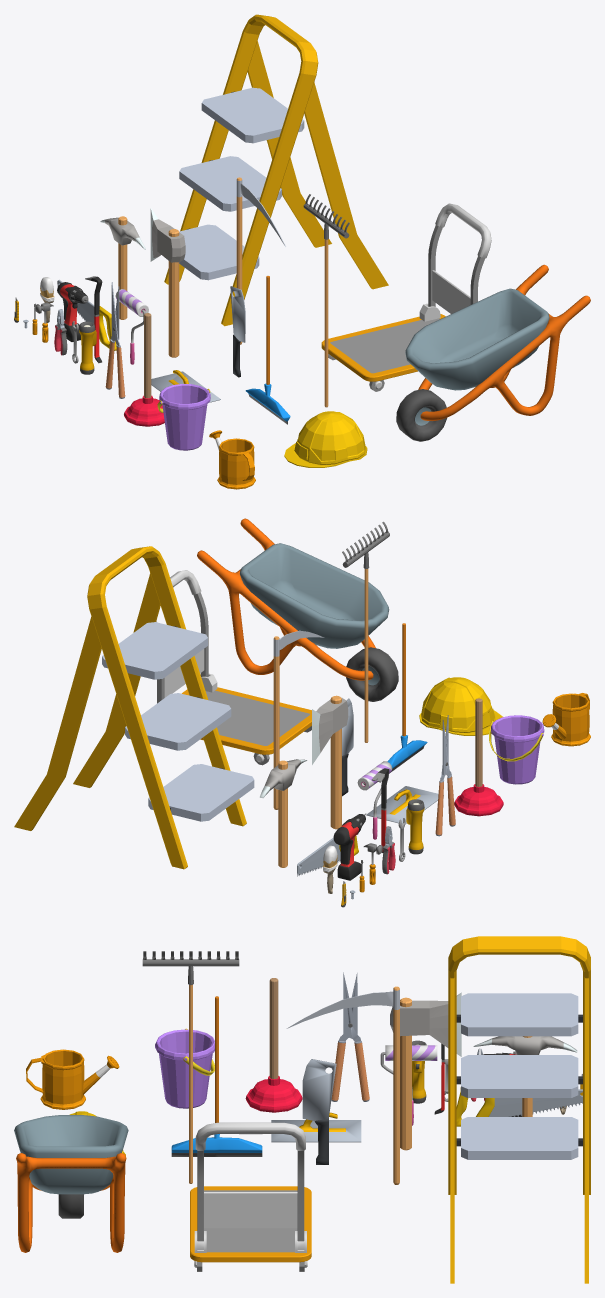
The model's file is Tools.fbx.
The picture shows the model from 3 angles, top to bottom: view 1: azimuth 30°, elevation 25°; view 2: azimuth 150°, elevation 25°; view 3: azimuth 270°, elevation 25°; orthographic projection. The views are drawn at different scales.
Visible parts, largest first — view 1: cart, Body, trolley, Back, Helmet, Cube_1_2, Cube_1_1, Bucket, Cube_1_0, Toilet_Pump, WateringCan, Front (+12 smaller); view 2: cart, Body, Back, trolley, Cube_1_0, Cube_1_1, Cube_1_2, Helmet, Bucket, Toilet_Pump, WateringCan, Front (+14 smaller); view 3: trolley, cart, Cube_1_2, Body, Cube_1_0, Cube_1_1, Bucket, Back, Toilet_Pump, WateringCan, Scyhte, Knife (+13 smaller).
Boxes of the visible parts, bbox=[...] form: cart: bbox=[396, 264, 590, 441]; Body: bbox=[164, 14, 318, 326]; trolley: bbox=[321, 203, 491, 391]; Back: bbox=[247, 40, 388, 289]; Helmet: bbox=[284, 411, 367, 467]; Cube_1_2: bbox=[201, 87, 304, 143]; Cube_1_1: bbox=[179, 156, 281, 211]; Bucket: bbox=[159, 384, 210, 450]; Cube_1_0: bbox=[179, 224, 259, 280]; Toilet_Pump: bbox=[124, 313, 164, 426]; WateringCan: bbox=[217, 438, 255, 489]; Front: bbox=[150, 208, 185, 262]; cart: bbox=[197, 518, 398, 701]; Body: bbox=[87, 546, 246, 869]; Back: bbox=[14, 573, 160, 830]; trolley: bbox=[156, 570, 311, 765]; Cube_1_0: bbox=[148, 764, 254, 821]; Cube_1_1: bbox=[125, 693, 231, 750]; Cube_1_2: bbox=[102, 622, 207, 679]; Helmet: bbox=[419, 677, 502, 735]; Bucket: bbox=[491, 715, 544, 784]; Toilet_Pump: bbox=[454, 698, 503, 816]; WateringCan: bbox=[551, 693, 590, 746]; Front: bbox=[312, 697, 348, 764]; trolley: bbox=[190, 1122, 311, 1271]; cart: bbox=[14, 1115, 128, 1252]; Cube_1_2: bbox=[456, 993, 582, 1036]; Body: bbox=[448, 936, 590, 1194]; Cube_1_0: bbox=[456, 1117, 582, 1159]; Cube_1_1: bbox=[456, 1055, 582, 1097]; Bucket: bbox=[155, 1029, 214, 1108]; Back: bbox=[450, 977, 588, 1283]; Toilet_Pump: bbox=[245, 978, 302, 1112]; WateringCan: bbox=[40, 1049, 85, 1109]; Scyhte: bbox=[286, 986, 399, 1184]; Knife: bbox=[302, 1059, 336, 1164].
Size of the model in its own units: 295 by 203 by 345.
